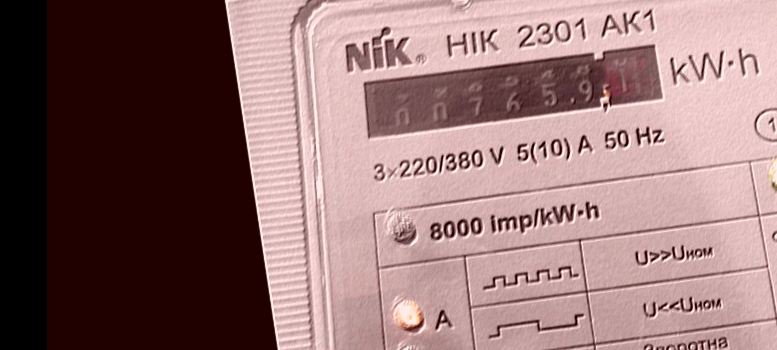0: (430, 98, 453, 125), (393, 103, 414, 131)
1: (616, 63, 635, 97)
5: (538, 79, 564, 109)
6: (503, 88, 525, 114)
7: (466, 93, 490, 121)
9: (576, 76, 598, 105)
screen: (350, 25, 678, 161)
